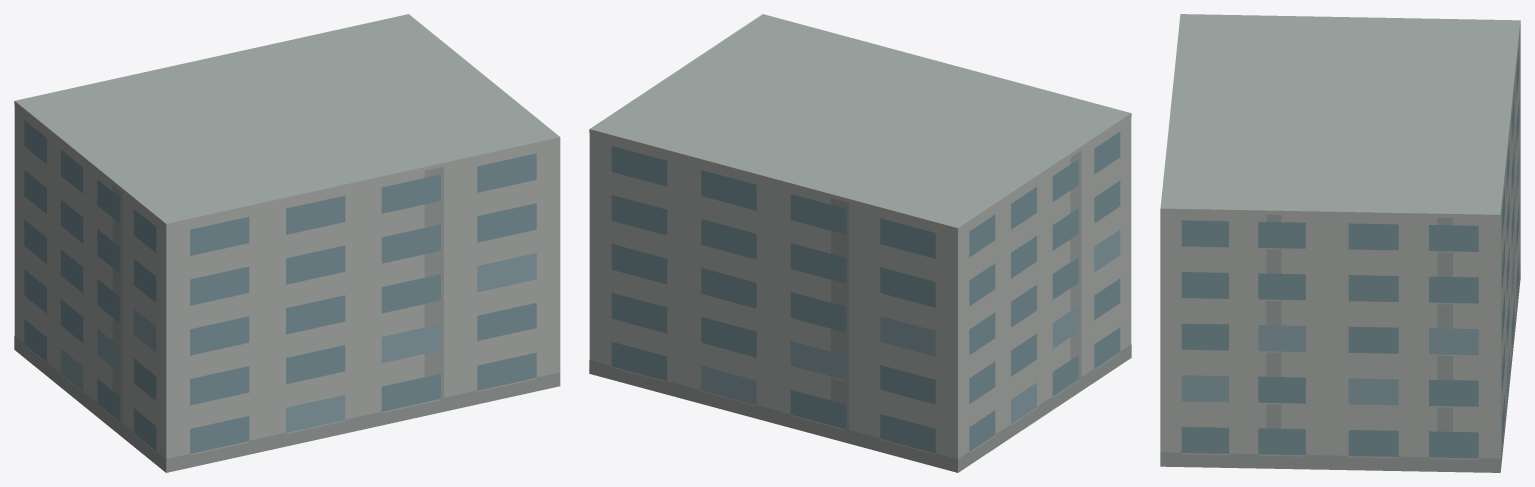
File: residential-8f455106-cd37-401d-99b5-83ace9eab26a.glb
The picture shows the model from 3 angles, left to right: view 1: azimuth 30°, elevation 25°; view 2: azimuth 150°, elevation 25°; view 3: azimuth 270°, elevation 25°; orthographic projection. The views are drawn at different scales.
Parts seen in each view (by area): view 1: residential-8f455106-cd37-401d-99b5-83ace9eab26a.tmp; view 2: residential-8f455106-cd37-401d-99b5-83ace9eab26a.tmp; view 3: residential-8f455106-cd37-401d-99b5-83ace9eab26a.tmp.
Boxes of the visible parts, x1,y1,x2,y2 form: residential-8f455106-cd37-401d-99b5-83ace9eab26a.tmp: [14, 14, 560, 472]; residential-8f455106-cd37-401d-99b5-83ace9eab26a.tmp: [589, 14, 1131, 472]; residential-8f455106-cd37-401d-99b5-83ace9eab26a.tmp: [1160, 14, 1520, 472].
Size of the model in its own units: 25.45 by 15.25 by 19.29.
